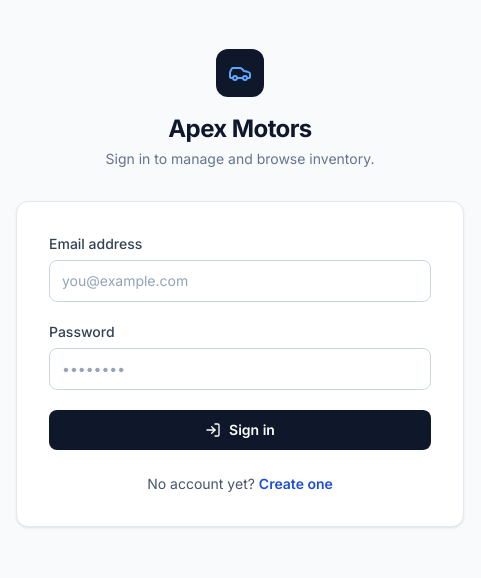
LoginPage › shows the backend message when the credentials are wrong
The image size is (481, 578).
Type "jordan@example.com" into the field labelled "Email address" at [240, 281], box [49,260,431,302]
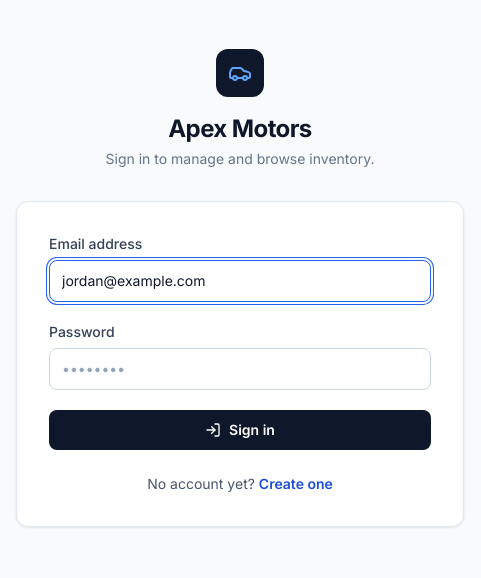
Type "wrong" into the password field labelled "Password" at [240, 369], box [49,348,431,390]
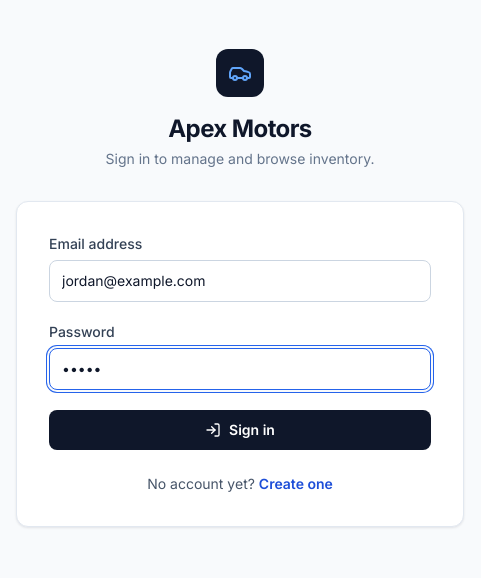
Click the button "Sign in" at [240, 430], box [49,410,431,450]
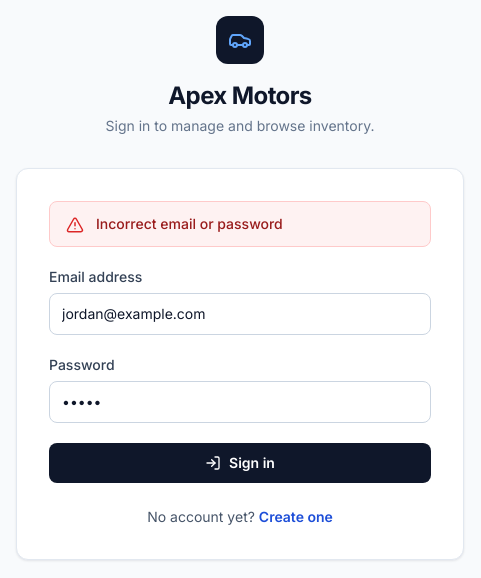
Expected: the message reads "Incorrect email or password", [96,215,283,232]
